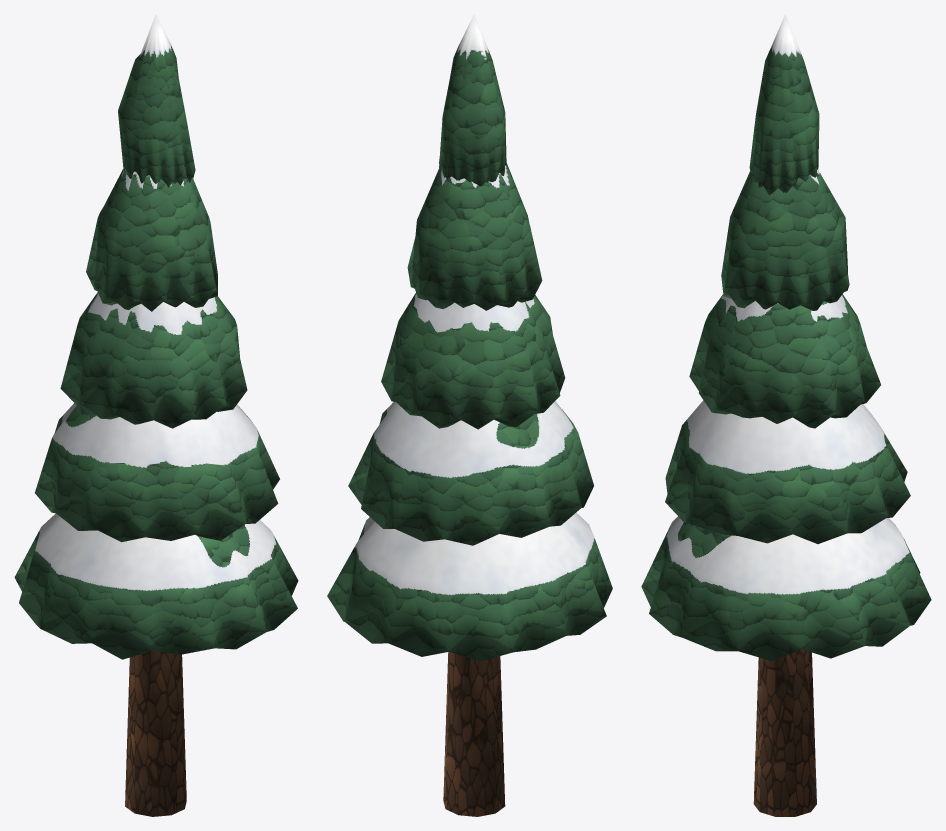
File: pine_b.glb
The picture shows the model from 3 angles, left to right: view 1: azimuth 30°, elevation 25°; view 2: azimuth 150°, elevation 25°; view 3: azimuth 270°, elevation 25°; orthographic projection.
Parts seen in each view (by area): view 1: crown_leaf, Trunk; view 2: crown_leaf, Trunk; view 3: crown_leaf, Trunk.
Part boxes in pixels (x1,y1,x2,y2): crown_leaf: [14, 14, 298, 659]; Trunk: [125, 651, 186, 816]; crown_leaf: [327, 14, 612, 661]; Trunk: [443, 652, 505, 816]; crown_leaf: [641, 14, 931, 661]; Trunk: [753, 649, 816, 816].
Size of the model in its own units: 1.51 by 4.68 by 1.56.
1 material, 1 textured.
